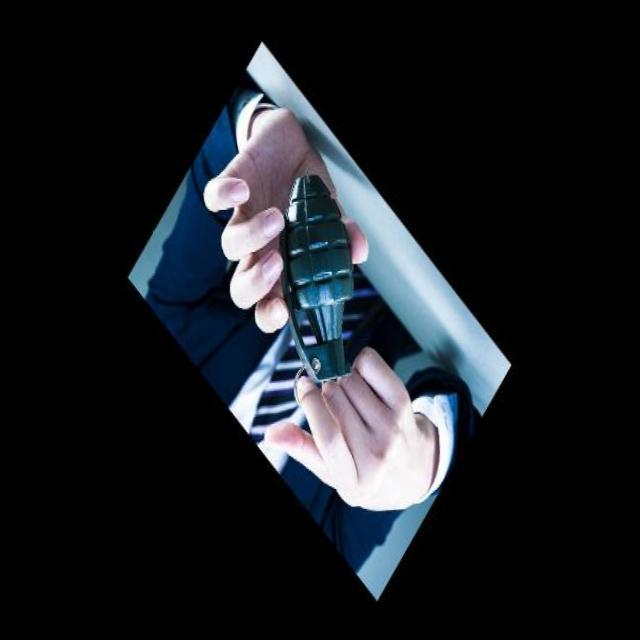grenade: (274, 169, 364, 391)
